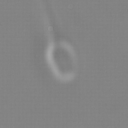normal: (34, 1, 63, 43)
